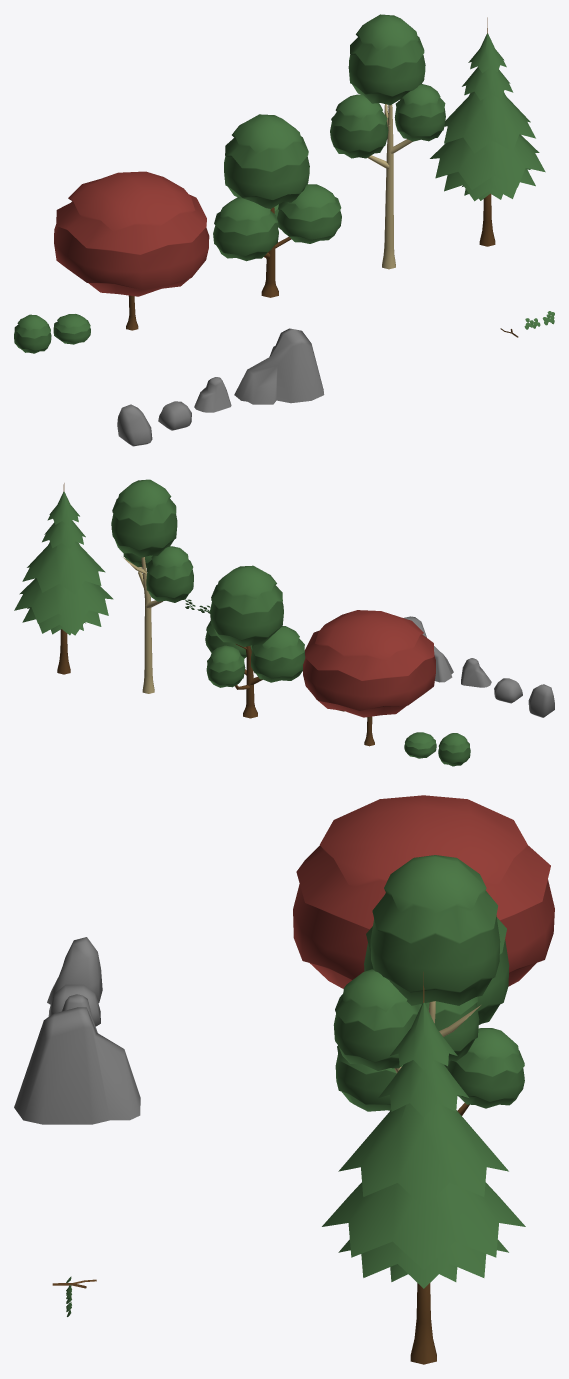
Rendered from Nature.fbx.
3 views of the same model, one above another, from view 1: azimuth 30°, elevation 25°; view 2: azimuth 150°, elevation 25°; view 3: azimuth 270°, elevation 25° (orthographic). The views are drawn at different scales.
Visible parts, largest first — view 1: Maple_Tree, Oak_Tree, Birch_Tree, Pine_Tree, Rock_Big, Bush_B, Rock_0, Bush_A, Rock_Med, Rock_1; view 2: Maple_Tree, Oak_Tree, Pine_Tree, Birch_Tree, Bush_B, Rock_0, Bush_A, Rock_Med, Rock_Big, Rock_1; view 3: Pine_Tree, Maple_Tree, Birch_Tree, Rock_Big, Oak_Tree, Rock_0, Rock_1.
Boxes of the visible parts, bbox=[...] form: Maple_Tree: bbox=[54, 171, 209, 330]; Oak_Tree: bbox=[213, 114, 341, 297]; Birch_Tree: bbox=[330, 14, 445, 269]; Pine_Tree: bbox=[430, 17, 545, 246]; Rock_Big: bbox=[234, 328, 324, 404]; Bush_B: bbox=[14, 314, 51, 353]; Rock_0: bbox=[117, 404, 152, 446]; Bush_A: bbox=[53, 314, 90, 344]; Rock_Med: bbox=[194, 377, 231, 412]; Rock_1: bbox=[158, 401, 191, 430]; Maple_Tree: bbox=[303, 610, 435, 746]; Oak_Tree: bbox=[205, 565, 305, 718]; Pine_Tree: bbox=[14, 483, 113, 674]; Birch_Tree: bbox=[111, 479, 193, 693]; Bush_B: bbox=[438, 733, 470, 766]; Rock_0: bbox=[528, 684, 554, 717]; Bush_A: bbox=[404, 732, 436, 758]; Rock_Med: bbox=[461, 658, 491, 687]; Rock_Big: bbox=[404, 616, 453, 682]; Rock_1: bbox=[494, 678, 522, 703]; Pine_Tree: bbox=[322, 972, 525, 1364]; Maple_Tree: bbox=[293, 795, 554, 988]; Birch_Tree: bbox=[333, 855, 500, 1072]; Rock_Big: bbox=[14, 1007, 140, 1124]; Oak_Tree: bbox=[335, 917, 524, 1115]; Rock_0: bbox=[47, 937, 102, 1004]; Rock_1: bbox=[48, 984, 100, 1026].
Size of the model in its own units: 26.46 by 12.63 by 13.95.
